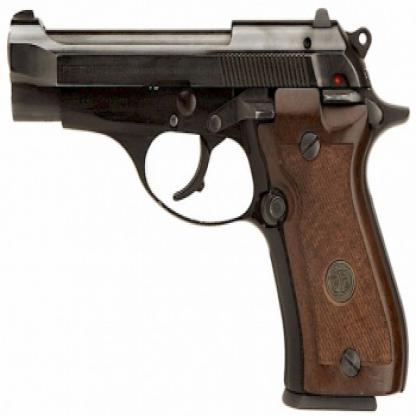Guns: (3, 3, 414, 414)
